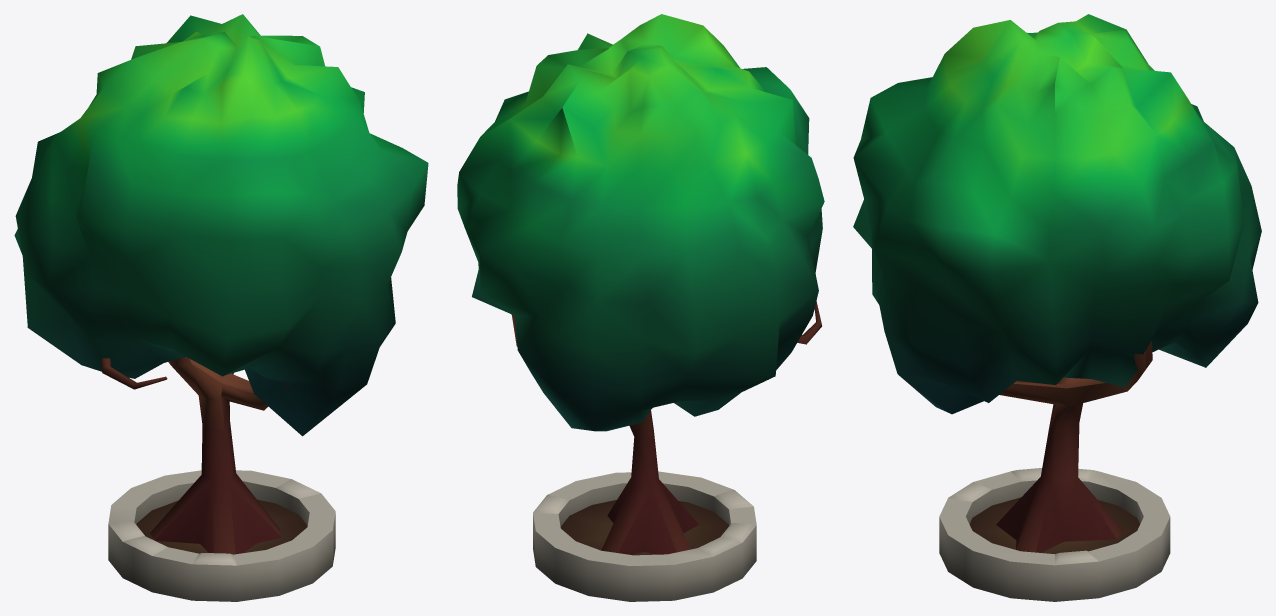
Rendered from Tree_1I.fbx.
3 views of the same model, side by side, from view 1: azimuth 30°, elevation 25°; view 2: azimuth 150°, elevation 25°; view 3: azimuth 270°, elevation 25° (orthographic). The views are drawn at different scales.
Visible parts, largest first — view 1: Tree_1I; view 2: Tree_1I; view 3: Tree_1I.
Part boxes in pixels (bbox=[...]): Tree_1I: bbox=[14, 14, 428, 601]; Tree_1I: bbox=[457, 14, 824, 601]; Tree_1I: bbox=[853, 14, 1261, 601].
Size of the model in its own units: 6.85 by 10.23 by 7.08.
